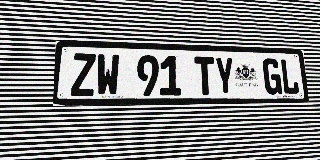1: (159, 55, 181, 96)
9: (137, 55, 159, 96)
G: (262, 58, 282, 95)
L: (280, 59, 300, 95)
T: (194, 56, 216, 95)
W: (96, 54, 120, 96)
Y: (214, 57, 235, 95)
Z: (71, 53, 96, 96)
